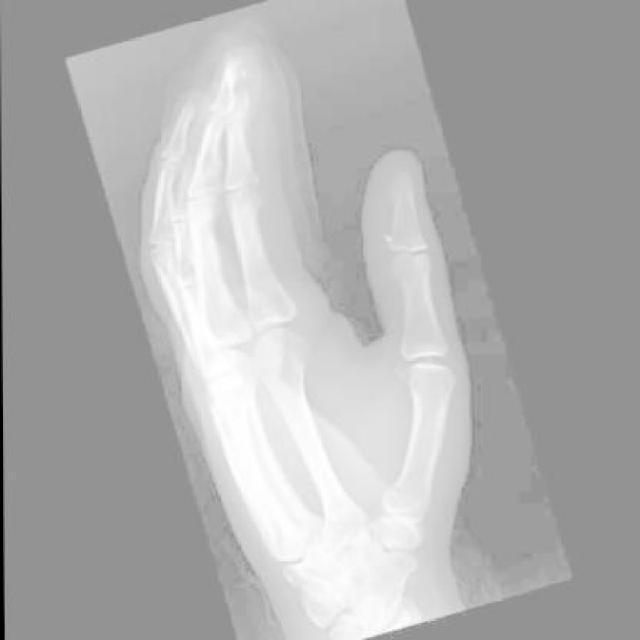Fracture: (211, 59, 261, 128)
